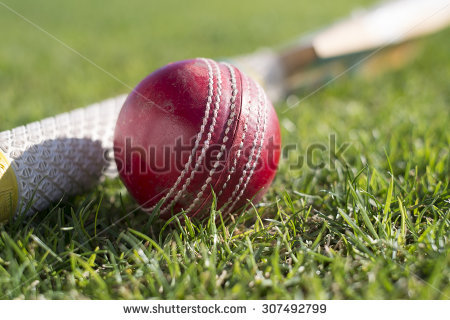red ball: (112, 58, 285, 229)
